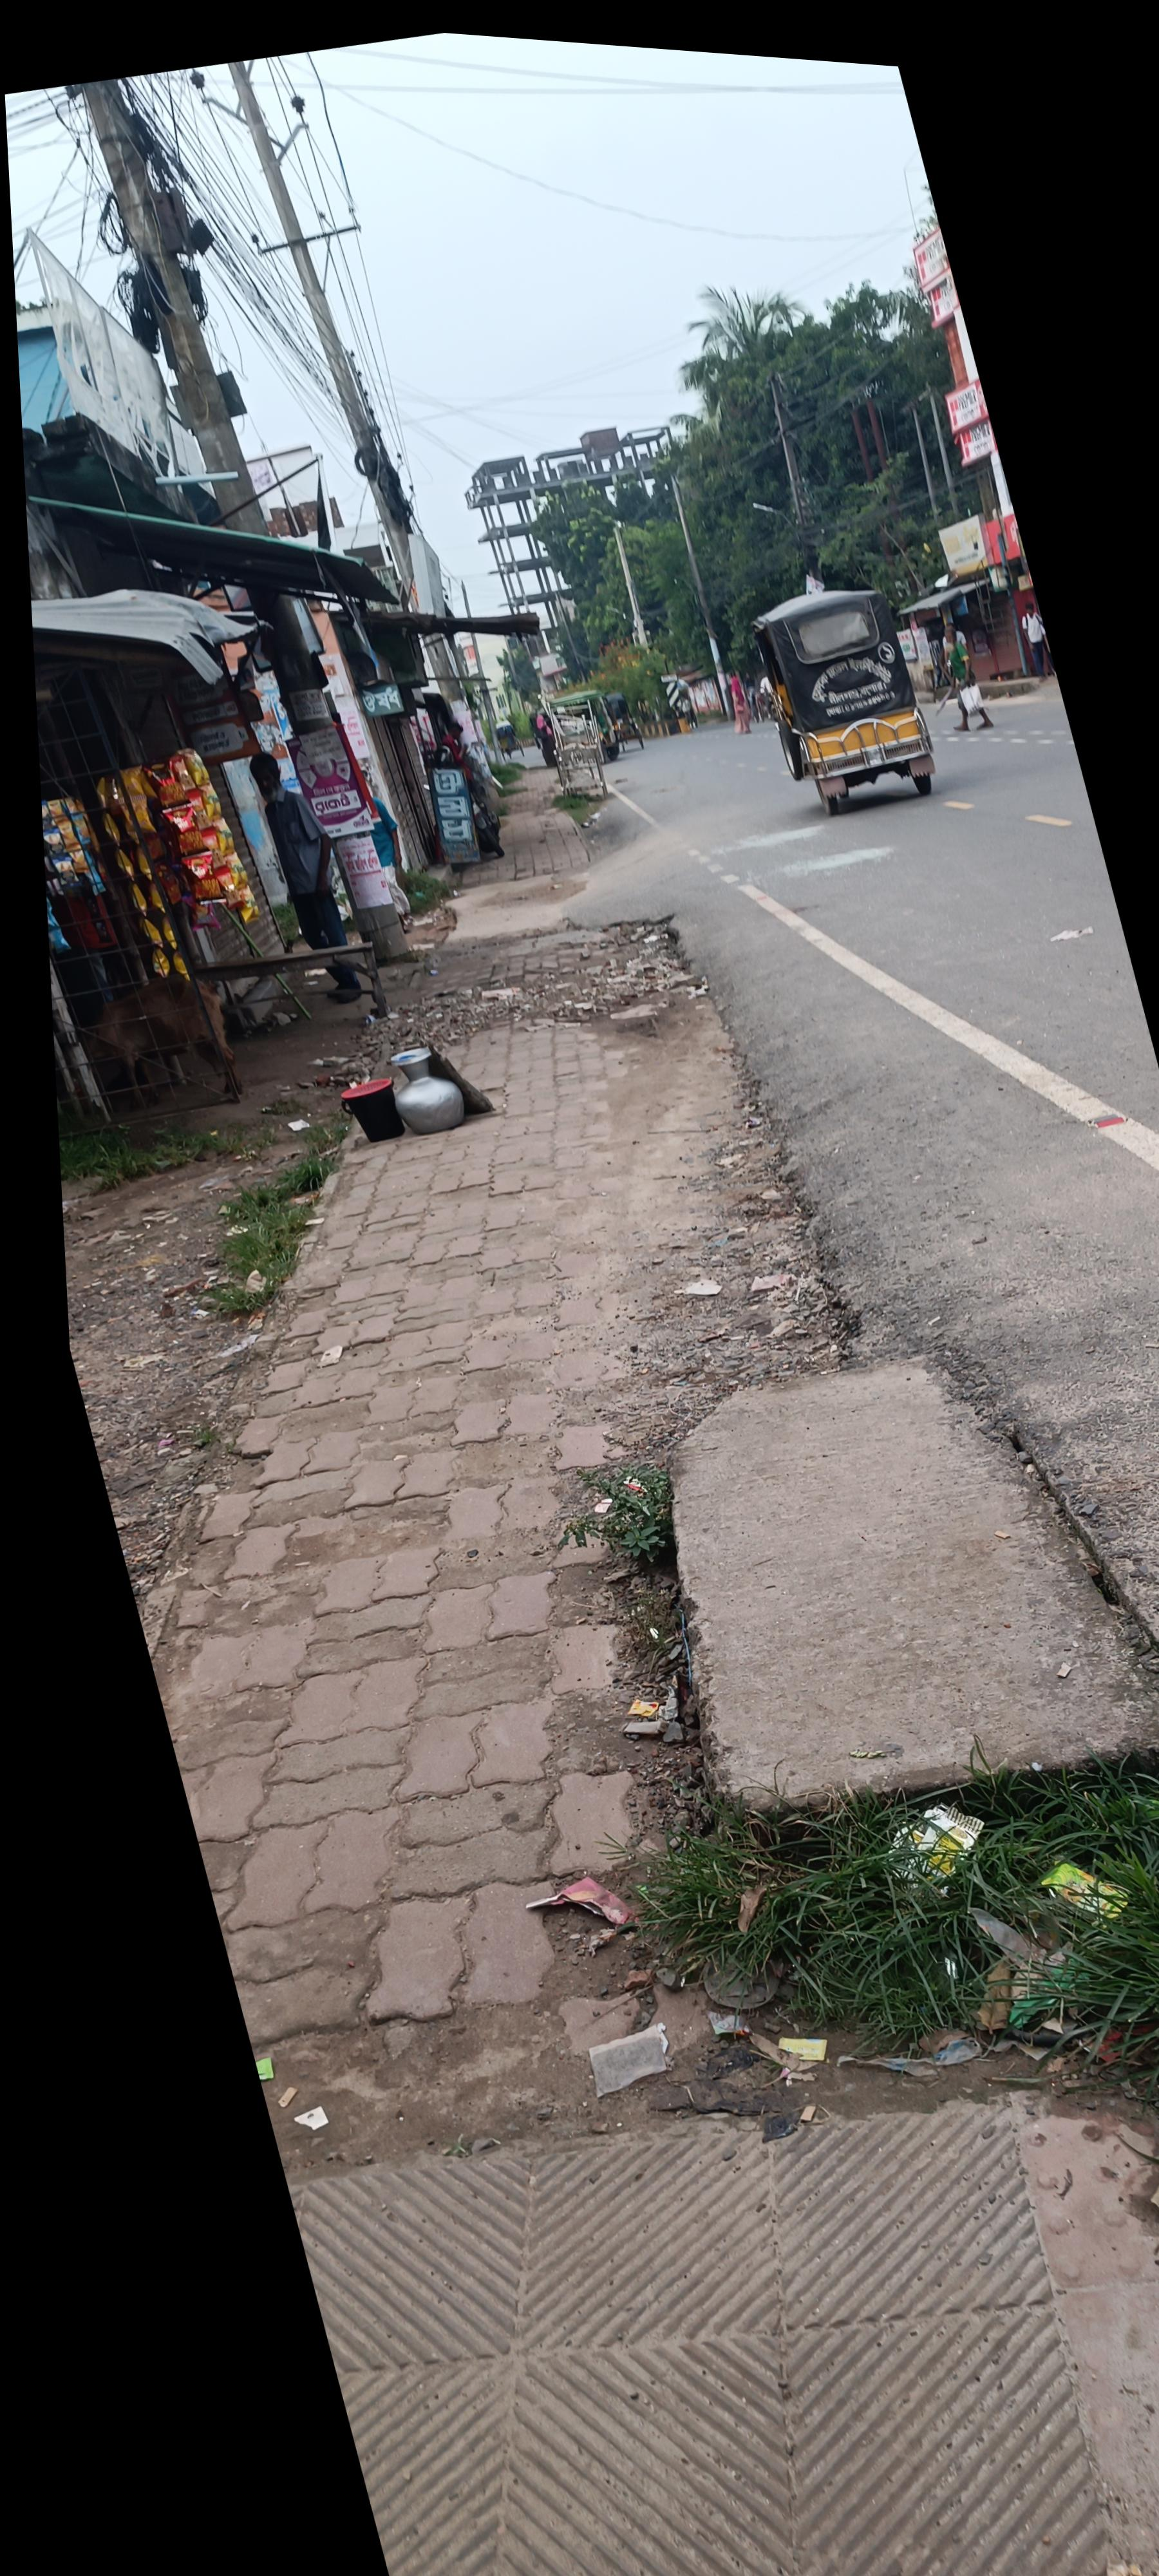Garbage: (87, 1152, 273, 1303)
Garbage-bin: (36, 867, 125, 1134), (691, 736, 750, 846)
Pothole: (46, 1143, 1080, 2576)
Traffic-cone: (497, 685, 703, 943), (302, 802, 381, 890)
